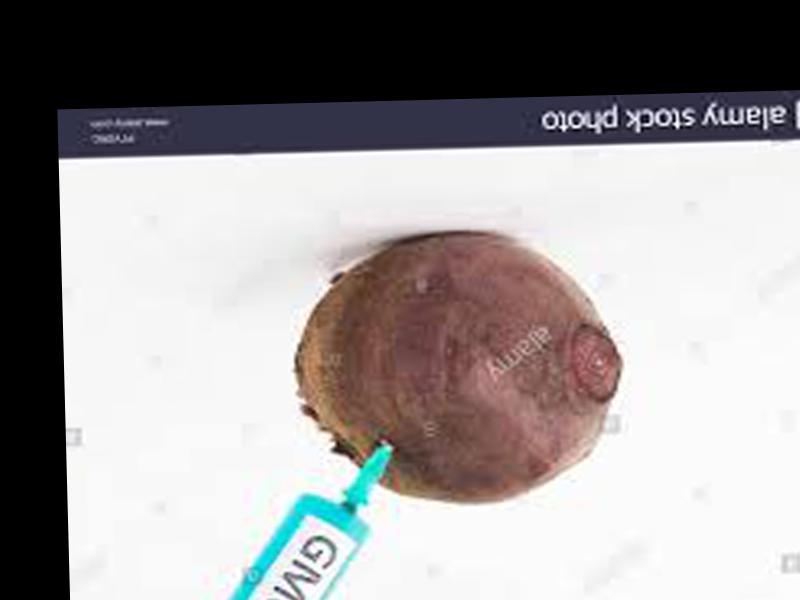Beet: (297, 226, 623, 509)
